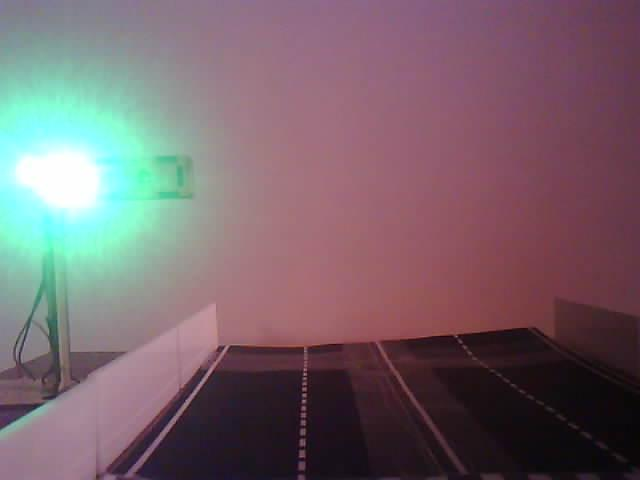green: (0, 90, 172, 276)
